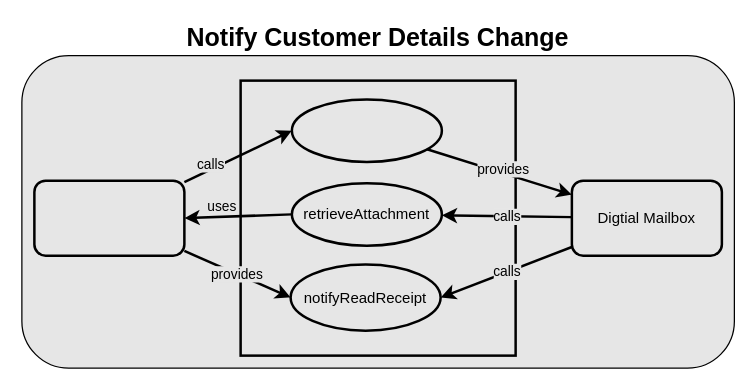
This 756x390 diagram has some shape labels left out. The centre of each missing label's shape, as x and y in pixels:
"publishMessage" goes at (x=366, y=130).
"Relying Parties" goes at (x=108, y=217).
